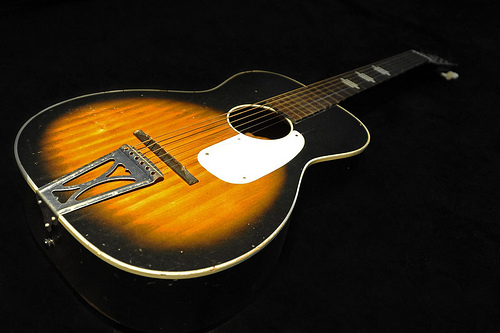guitar: (12, 48, 459, 292)
